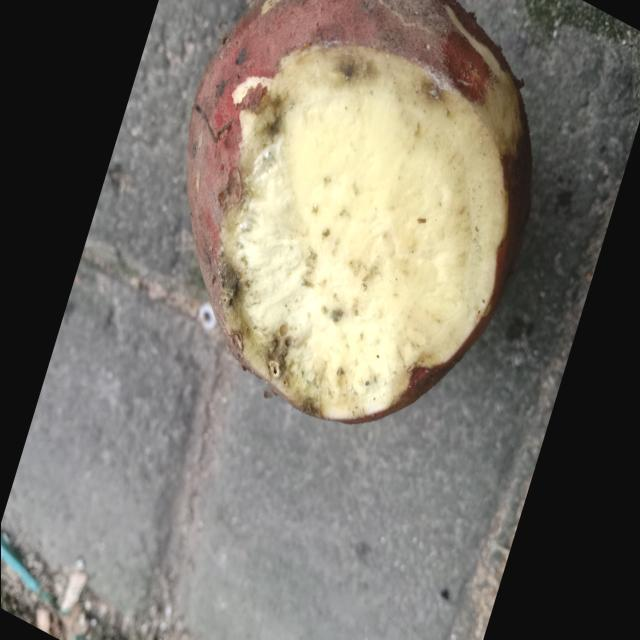Sick Sweet Potato_Tuber Rot: (221, 47, 506, 418)
